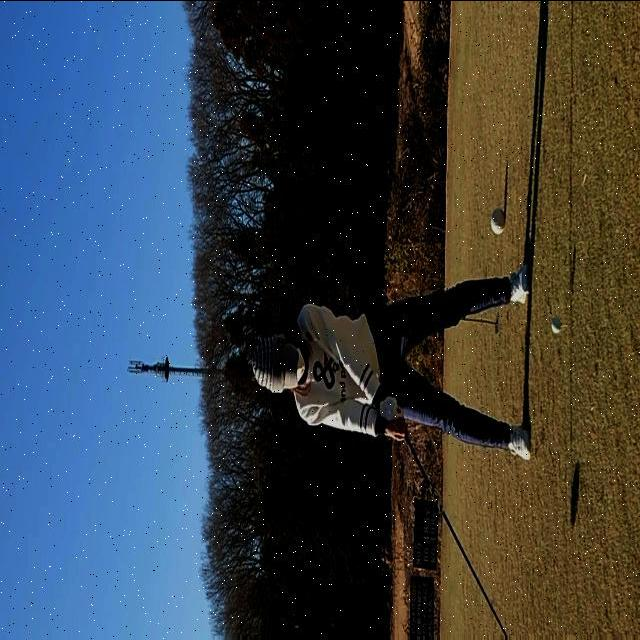golf ball: (549, 319, 559, 340)
golf club-handle: (396, 422, 516, 640)
